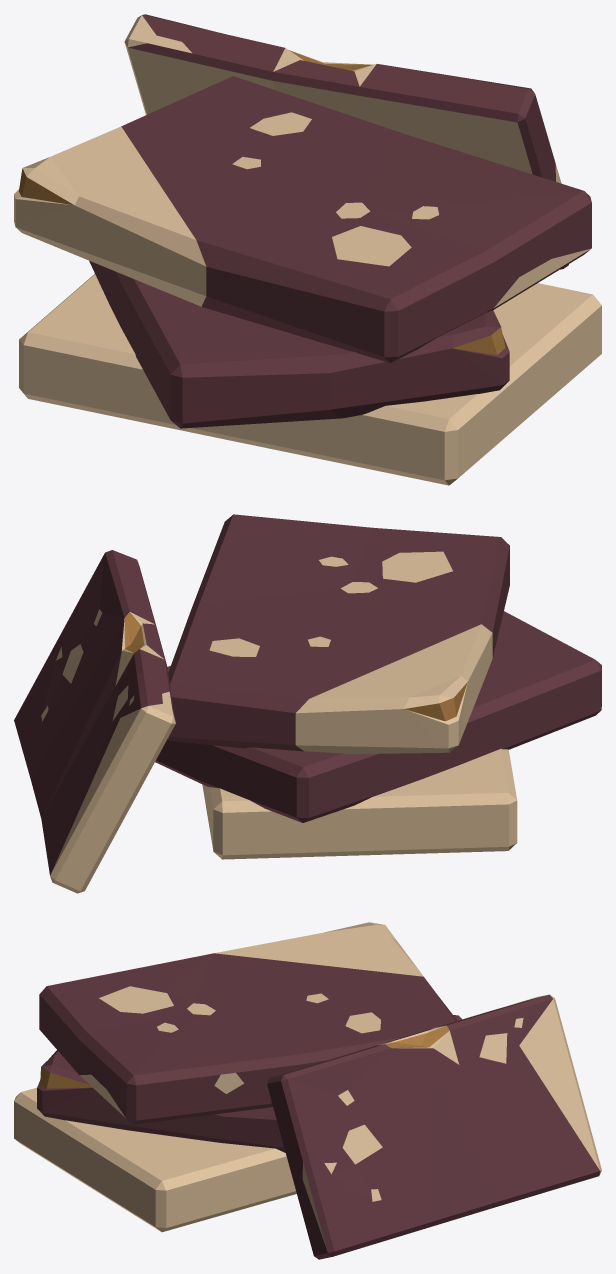
File: apocalypse-mattress-pile-apocalypse.glb
The picture shows the model from 3 angles, top to bottom: view 1: azimuth 30°, elevation 25°; view 2: azimuth 150°, elevation 25°; view 3: azimuth 270°, elevation 25°; orthographic projection. The views are drawn at different scales.
Parts seen in each view (by area): view 1: mattress-pile-apocalypse; view 2: mattress-pile-apocalypse; view 3: mattress-pile-apocalypse.
Boxes of the visible parts, x1,y1,x2,y2 form: mattress-pile-apocalypse: [14, 14, 601, 485]; mattress-pile-apocalypse: [14, 514, 601, 893]; mattress-pile-apocalypse: [14, 922, 601, 1259].
Size of the model in its own units: 2.66 by 0.9636 by 3.12.
